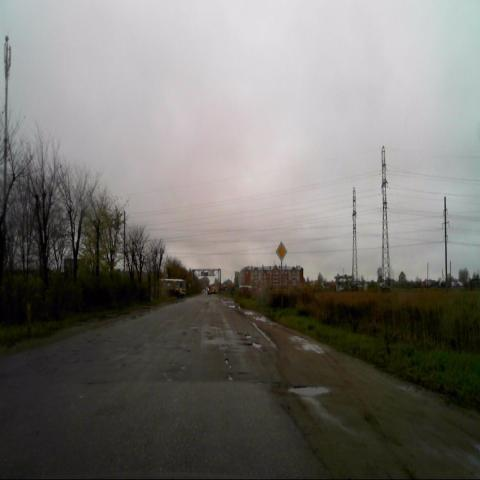2_1: (276, 241, 287, 261)
